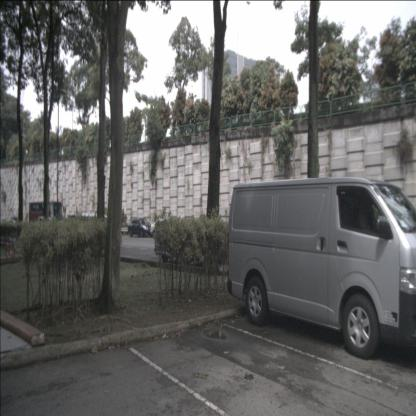vehicle-bicycle: (5, 233, 29, 264)
vehicle-bus-rigid: (28, 202, 64, 226)
vehicle-car: (227, 176, 415, 361), (128, 217, 152, 238), (150, 218, 174, 239)
